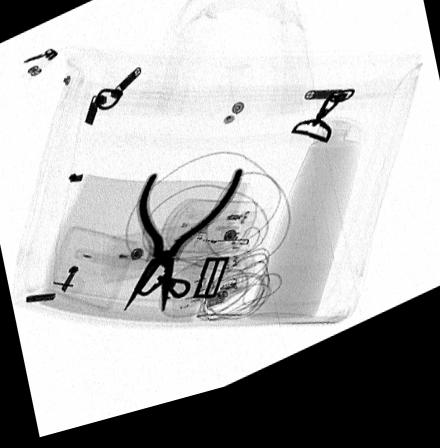Pliers: (121, 180, 243, 321)
